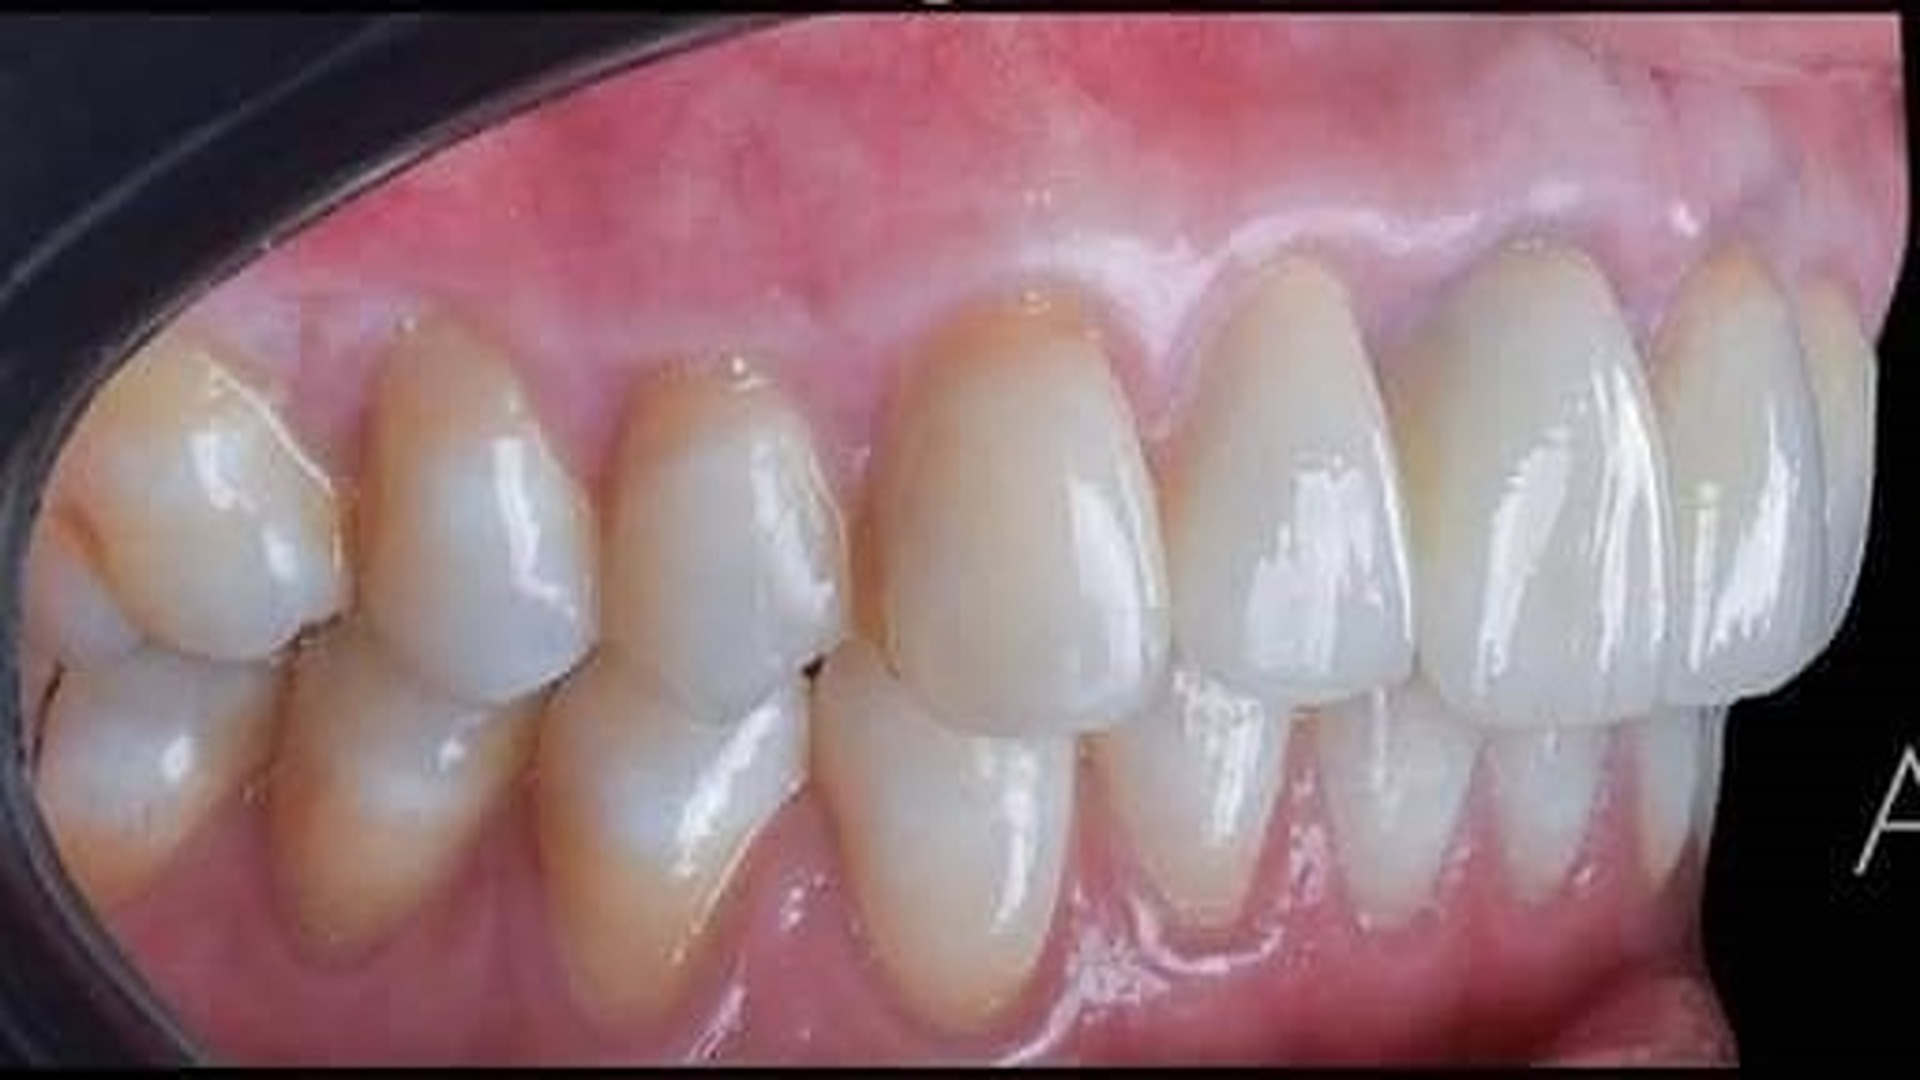tooth: (1383, 237, 1675, 732), (866, 291, 1172, 740), (1162, 257, 1418, 709), (810, 640, 1076, 1039), (266, 629, 574, 969), (45, 348, 349, 662), (538, 676, 808, 1030), (357, 315, 601, 705), (600, 352, 845, 729), (1648, 241, 1829, 705), (36, 647, 269, 914), (1102, 667, 1288, 928), (1317, 673, 1480, 931), (1490, 728, 1611, 902)
